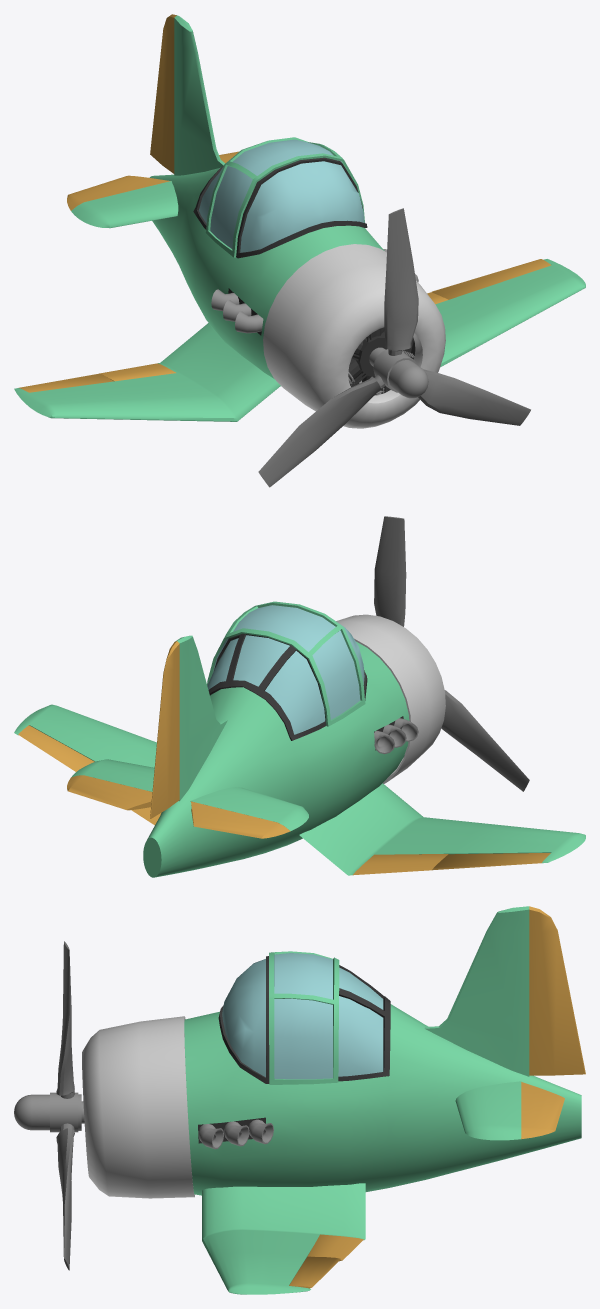
The model's file is aircraft.dae.
The picture shows the model from 3 angles, top to bottom: view 1: azimuth 30°, elevation 25°; view 2: azimuth 150°, elevation 25°; view 3: azimuth 270°, elevation 25°; orthographic projection. The views are drawn at different scales.
Parts seen in each view (by area): view 1: aircraft, propeller, canopy_sliding, rudder, elevator, engine, aileron_L, aileron_R, flap_R; view 2: aircraft, canopy_sliding, propeller, elevator, rudder, flap_R, aileron_R, aileron_L; view 3: aircraft, canopy_sliding, rudder, propeller, elevator, flap_L, aileron_L.
Part boxes in pixels (x1=…): aircraft: x1=14, y1=15, x2=585, y2=428; propeller: x1=258, y1=208, x2=530, y2=487; canopy_sliding: x1=205, y1=137, x2=364, y2=257; rudder: x1=150, y1=14, x2=176, y2=173; elevator: x1=67, y1=151, x2=239, y2=210; engine: x1=348, y1=327, x2=415, y2=395; aileron_L: x1=432, y1=259, x2=551, y2=299; aileron_R: x1=19, y1=373, x2=113, y2=392; flap_R: x1=99, y1=363, x2=175, y2=381; aircraft: x1=14, y1=614, x2=585, y2=877; canopy_sliding: x1=207, y1=601, x2=365, y2=726; propeller: x1=374, y1=516, x2=529, y2=791; elevator: x1=67, y1=775, x2=290, y2=838; rudder: x1=150, y1=641, x2=179, y2=818; flap_R: x1=353, y1=854, x2=448, y2=875; aileron_R: x1=432, y1=853, x2=550, y2=870; aileron_L: x1=18, y1=725, x2=94, y2=771; aircraft: x1=82, y1=906, x2=581, y2=1294; canopy_sliding: x1=269, y1=951, x2=339, y2=1084; rudder: x1=529, y1=906, x2=585, y2=1075; propeller: x1=14, y1=941, x2=84, y2=1270; elevator: x1=521, y1=1082, x2=564, y2=1139; flap_L: x1=307, y1=1234, x2=363, y2=1261; aileron_L: x1=289, y1=1257, x2=340, y2=1288.
Bounding box in the file's own units: 8.16 × 6.98 × 4.03.
